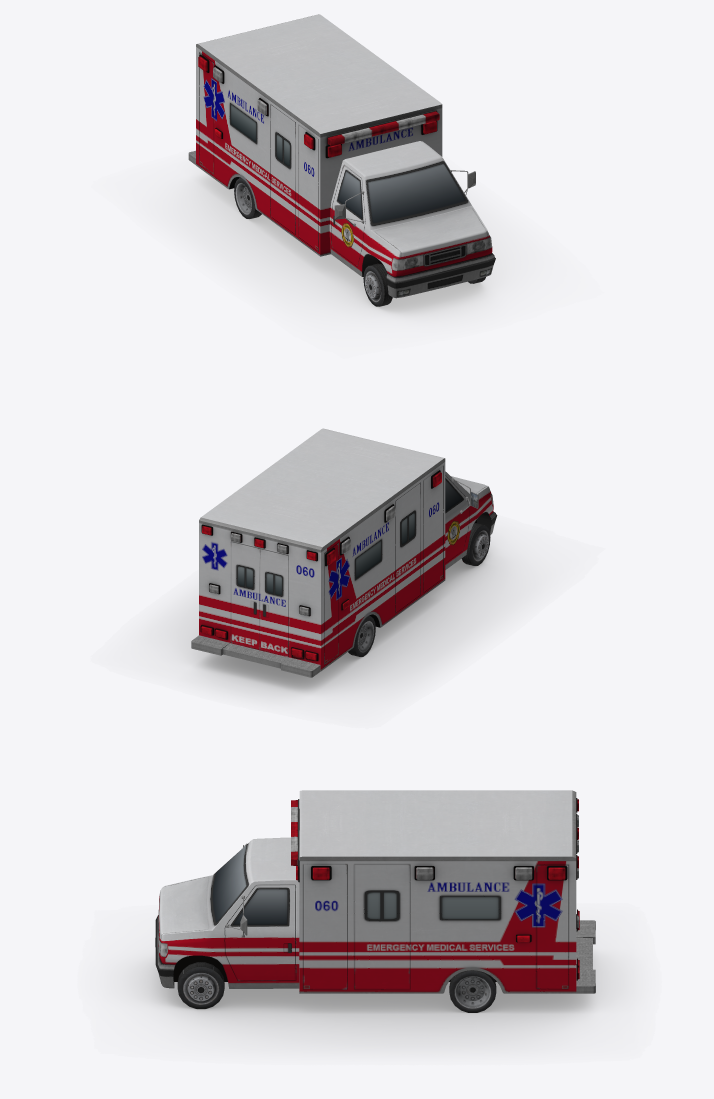
The model's file is ambulance.glb.
The picture shows the model from 3 angles, top to bottom: view 1: azimuth 30°, elevation 25°; view 2: azimuth 150°, elevation 25°; view 3: azimuth 270°, elevation 25°; orthographic projection. The views are drawn at different scales.
Parts seen in each view (by area): view 1: merged; view 2: merged; view 3: merged.
Boxes of the visible parts, bbox=[...] form: merged: bbox=[166, 14, 515, 322]; merged: bbox=[166, 428, 516, 698]; merged: bbox=[122, 790, 628, 1049].
Size of the model in its own units: 7.43 by 2.66 by 10.49.
3 materials, 2 textured.
